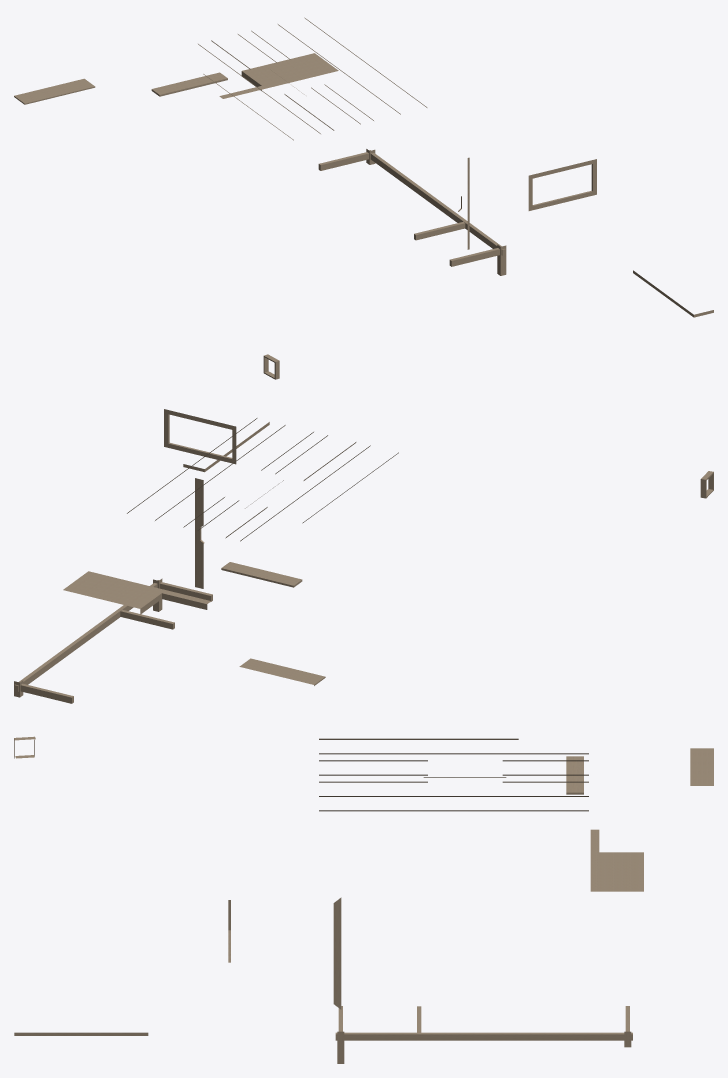
Rendered from kd_stage_135ded_4_16.glb.
The picture shows the model from 3 angles, top to bottom: view 1: azimuth 30°, elevation 25°; view 2: azimuth 150°, elevation 25°; view 3: azimuth 270°, elevation 25°; orthographic projection. The views are drawn at different scales.
Visible parts, largest first — view 1: kd_stage_135ded_4_16; view 2: kd_stage_135ded_4_16; view 3: kd_stage_135ded_4_16.
Part boxes in pixels (x1=…): kd_stage_135ded_4_16: x1=14, y1=17, x2=713, y2=379; kd_stage_135ded_4_16: x1=14, y1=409, x2=713, y2=703; kd_stage_135ded_4_16: x1=14, y1=736, x2=713, y2=1063.
Bounding box in the file's own units: 7.86 × 3.32 × 9.85.
1 material, 1 textured.
